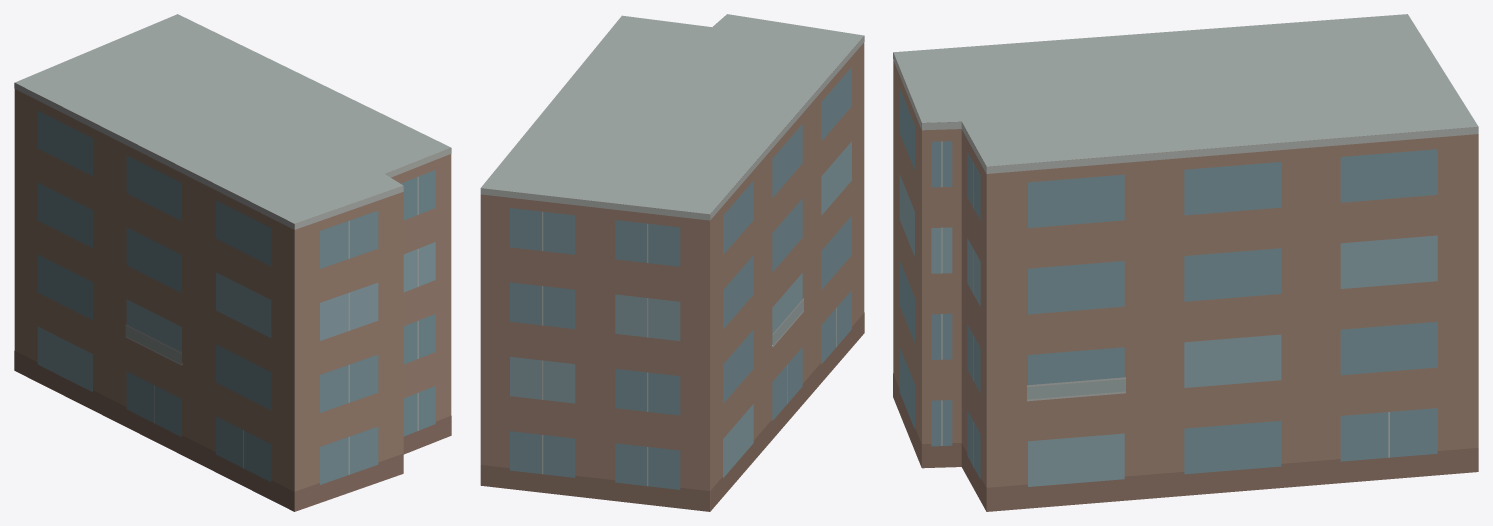
File: survey-upis-32462057.glb
The picture shows the model from 3 angles, left to right: view 1: azimuth 30°, elevation 25°; view 2: azimuth 150°, elevation 25°; view 3: azimuth 270°, elevation 25°; orthographic projection. The views are drawn at different scales.
Parts seen in each view (by area): view 1: survey-upis-32462057.tmp; view 2: survey-upis-32462057.tmp; view 3: survey-upis-32462057.tmp.
Boxes of the visible parts, x1,y1,x2,y2 form: survey-upis-32462057.tmp: [14, 14, 451, 511]; survey-upis-32462057.tmp: [480, 14, 864, 511]; survey-upis-32462057.tmp: [893, 14, 1478, 511].
Bounding box in the file's own units: 10.92 × 11.5 × 17.68.
